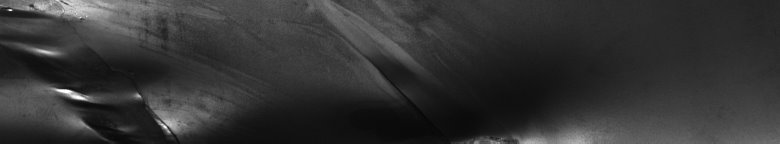ke: (4, 4, 224, 136)
